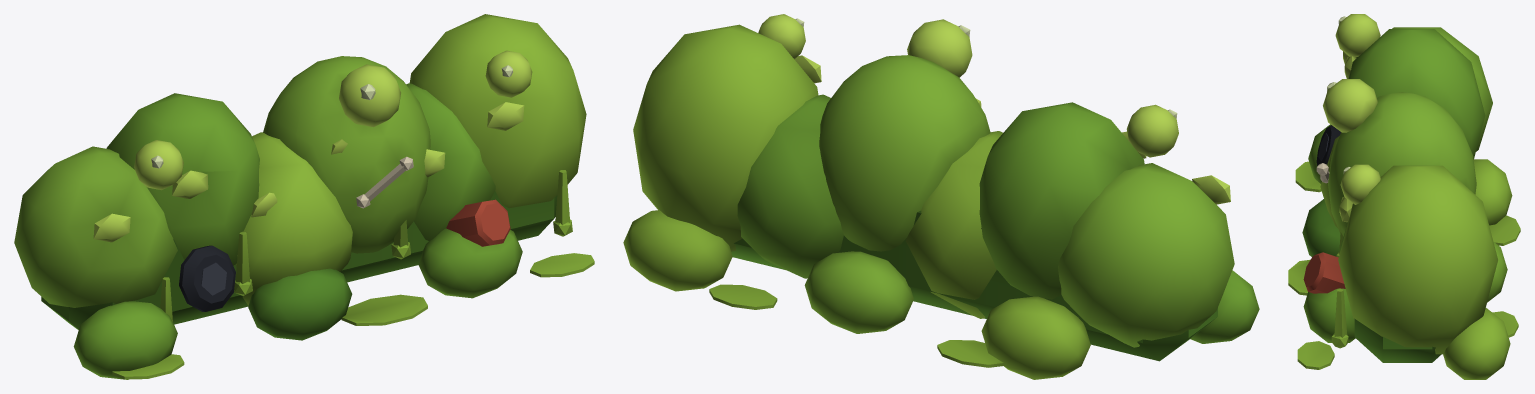
File: x_barrier_krater.glb
The picture shows the model from 3 angles, left to right: view 1: azimuth 30°, elevation 25°; view 2: azimuth 150°, elevation 25°; view 3: azimuth 270°, elevation 25°; orthographic projection. The views are drawn at different scales.
Visible parts, largest first — view 1: body, pulse_bubble2, pulse_bubble1, pulse_bubble3; view 2: body, pulse_bubble2, pulse_bubble1, pulse_bubble3; view 3: body, pulse_bubble2, pulse_bubble1, pulse_bubble3.
Part boxes in pixels (box(x1,y1,x2,y2)): body: box(14, 14, 594, 379); pulse_bubble2: box(339, 64, 400, 127); pulse_bubble1: box(134, 140, 183, 190); pulse_bubble3: box(485, 50, 532, 97); body: box(623, 24, 1259, 379); pulse_bubble2: box(907, 19, 972, 77); pulse_bubble1: box(1126, 104, 1178, 157); pulse_bubble3: box(758, 14, 805, 59); body: box(1288, 27, 1520, 379); pulse_bubble2: box(1323, 79, 1377, 132); pulse_bubble1: box(1335, 14, 1380, 56); pulse_bubble3: box(1340, 164, 1380, 204).
Bounding box in the file's own units: 7.91 × 3.4 × 3.29.
